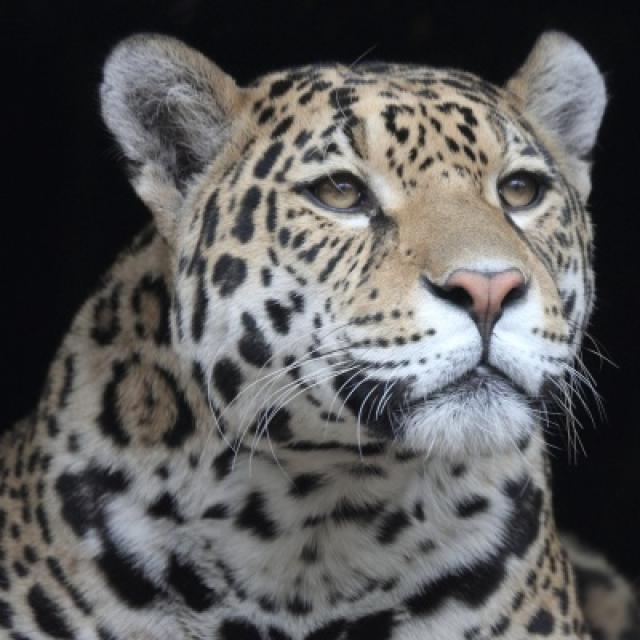Jaguar: (0, 29, 622, 638)
